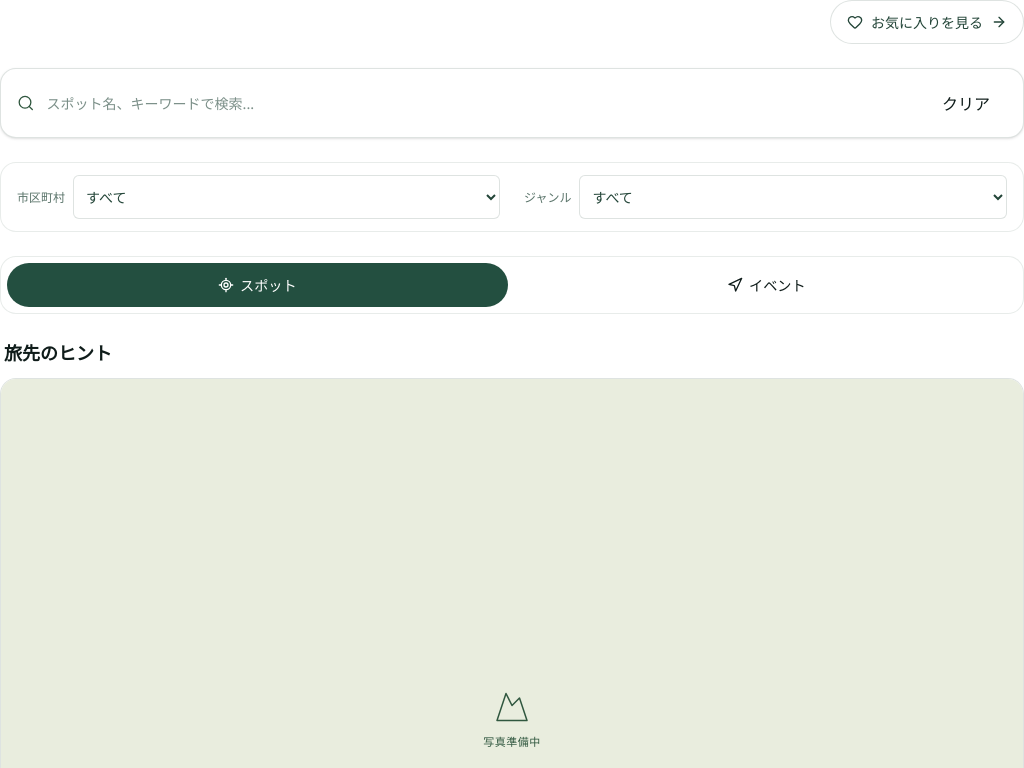
Test: SearchSurface › shows a retry message when the search request fails
Type "祭り" into the field with placeholder "スポット名、キーワードで検索...".
click(480, 103); type("祭り")  # box left=46, top=93, right=913, bottom=113
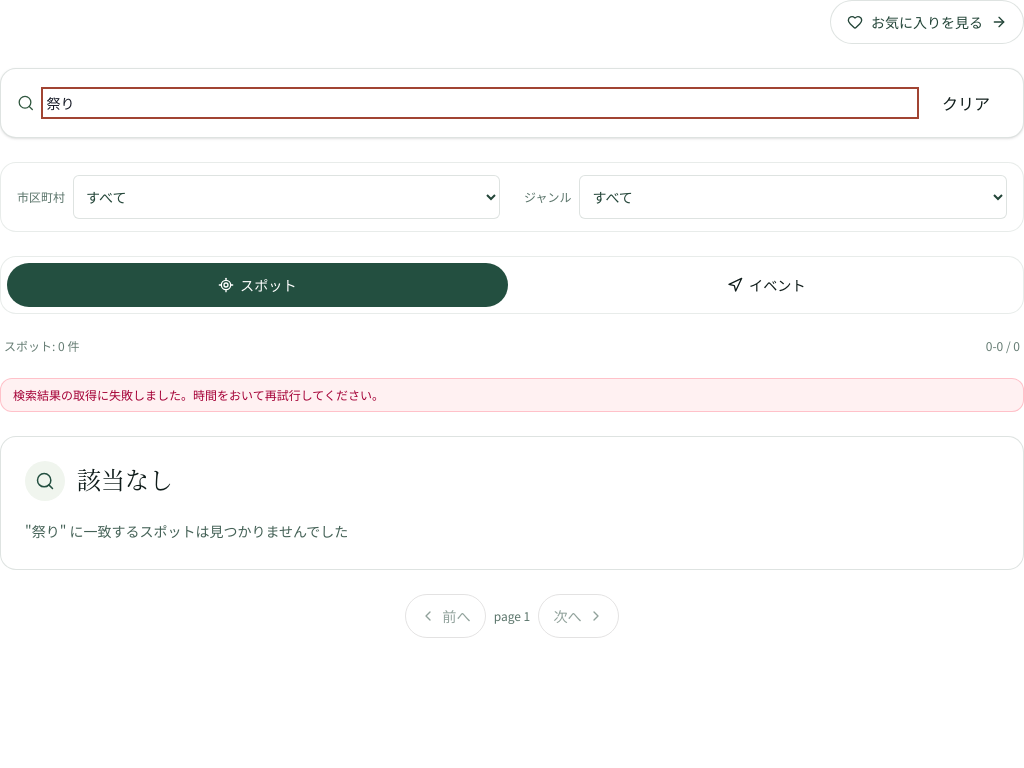
Expected: the text "検索結果の取得に失敗しました。時間をおいて再試行してください。" is shown, left=0, top=378, right=1023, bottom=412
